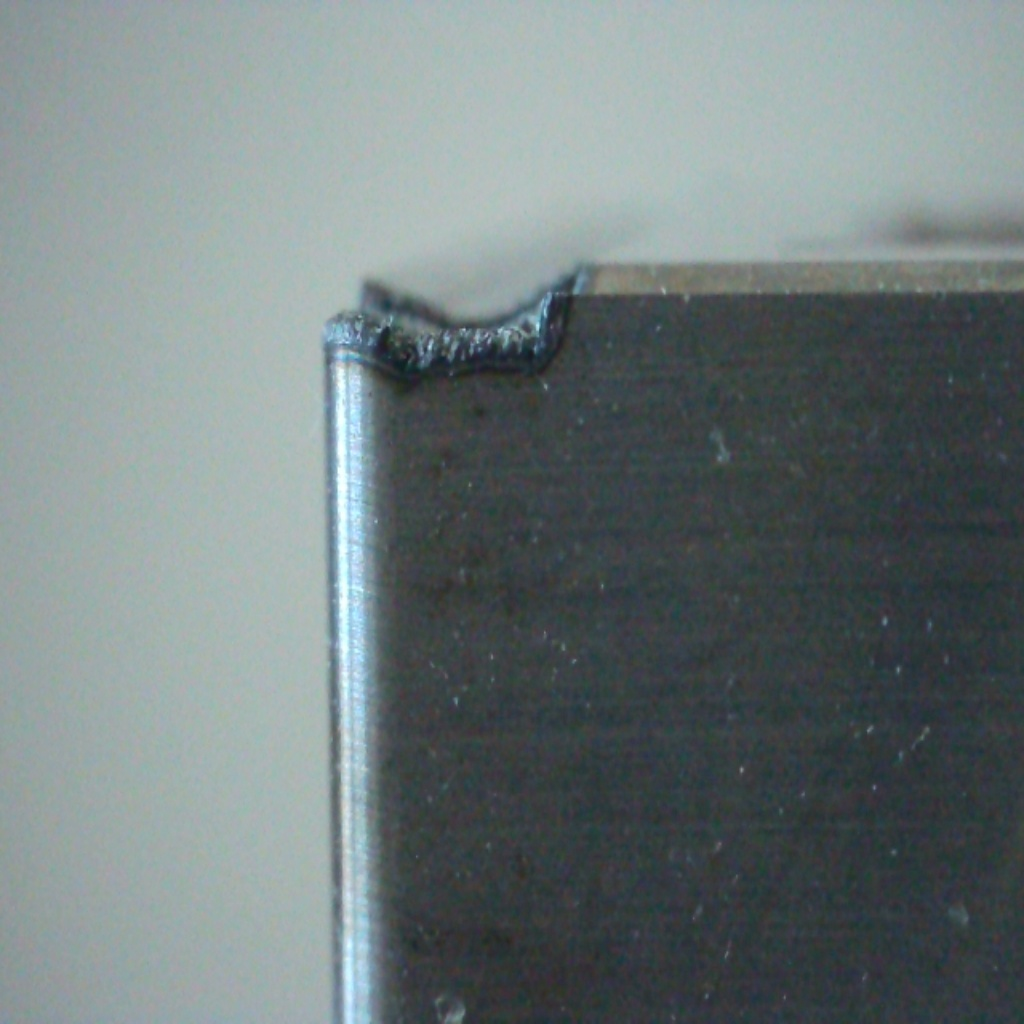flank_wear: (312, 283, 581, 394)
